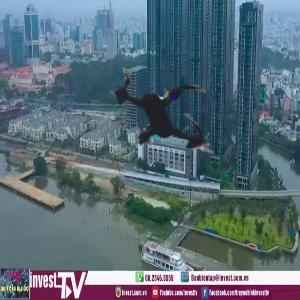drone: (57, 12, 265, 220)
